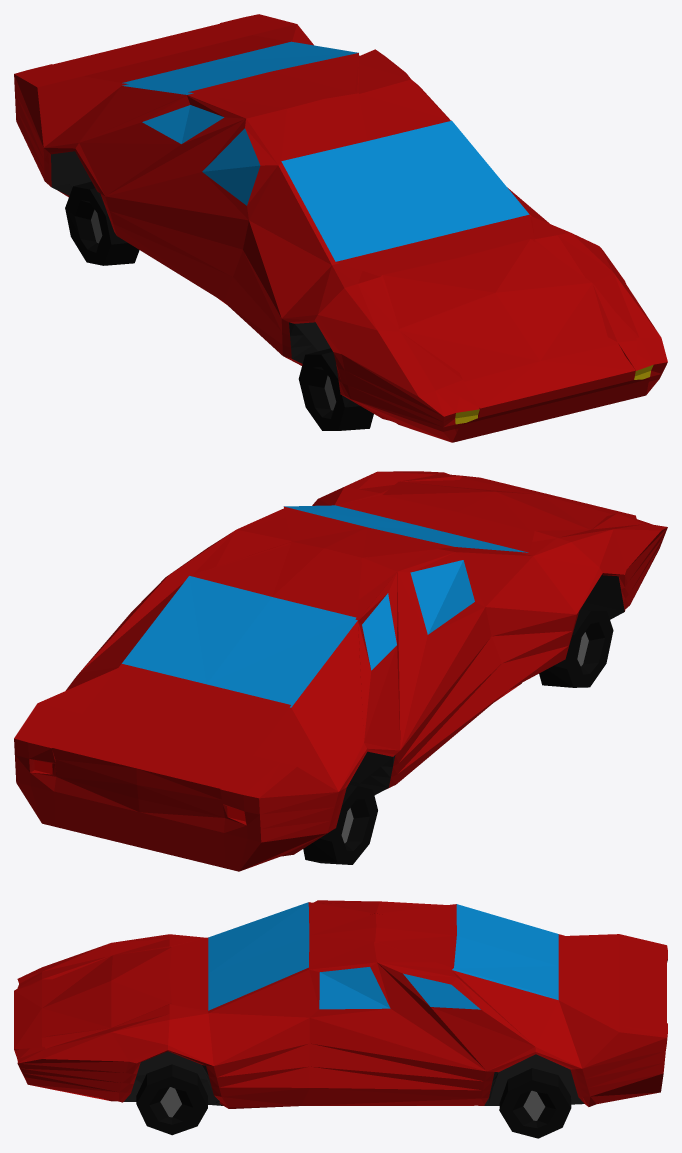
File: car.obj
The picture shows the model from 3 angles, top to bottom: view 1: azimuth 30°, elevation 25°; view 2: azimuth 150°, elevation 25°; view 3: azimuth 270°, elevation 25°; orthographic projection. The views are drawn at different scales.
Parts seen in each view (by area): view 1: Car.Body.000; view 2: Car.Body.000; view 3: Car.Body.000.
Boxes of the visible parts, <box> form: Car.Body.000: <box>14,14,667,442</box>; Car.Body.000: <box>14,471,667,871</box>; Car.Body.000: <box>14,900,667,1138</box>.
Bounding box in the file's own units: 1.12 × 0.7715 × 2.77.
